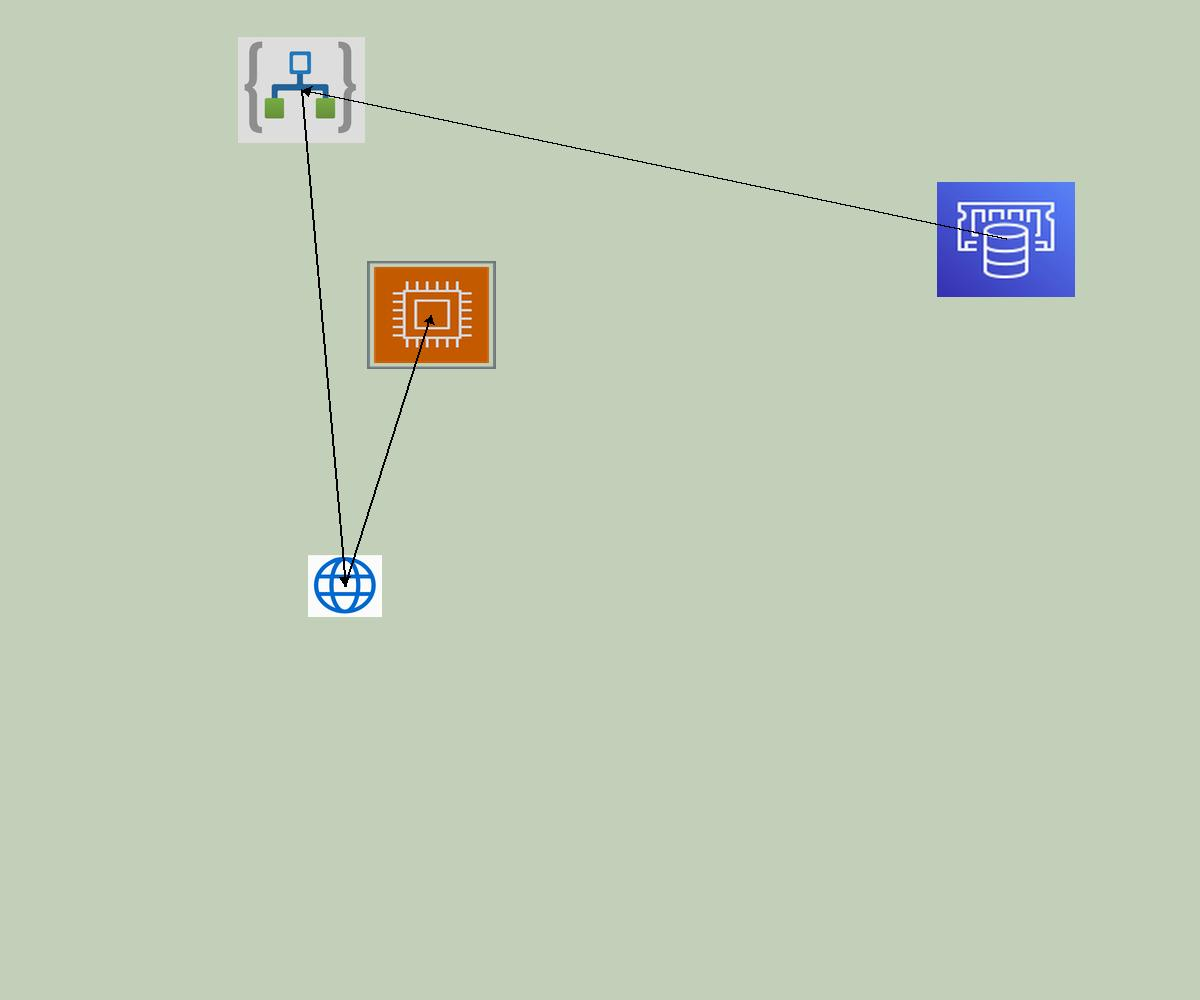AWS-Category_Compute: (367, 261, 496, 369)
AWS-ElastiCache: (937, 182, 1075, 297)
Azure_http: (308, 555, 382, 617)
Azure_integration-204-Logic-Apps: (238, 37, 365, 143)
